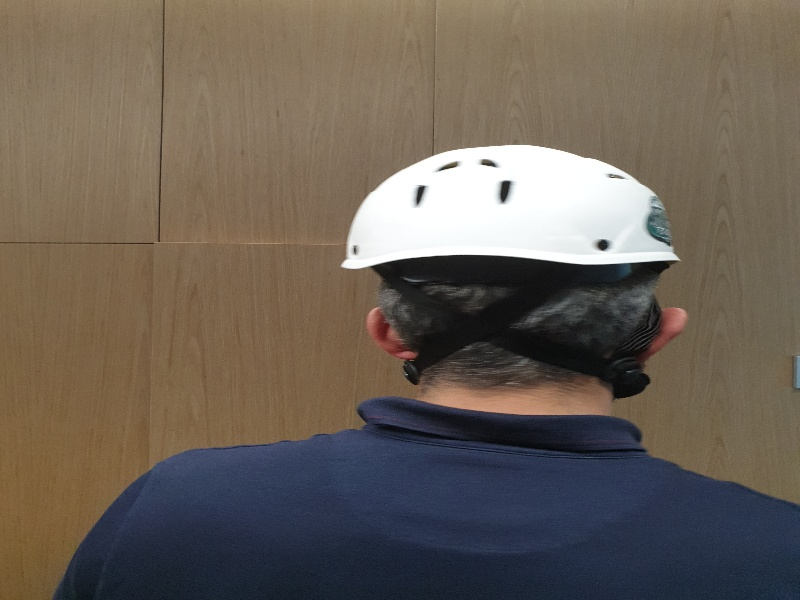Baret: (342, 144, 682, 273)
